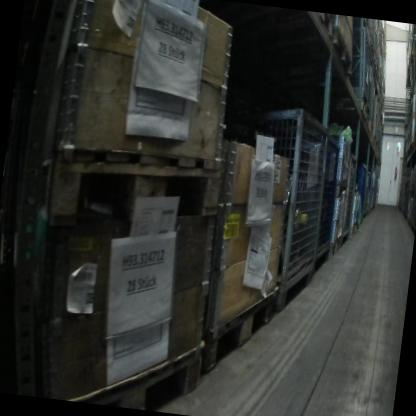pallet: (24, 132, 229, 225), (66, 321, 209, 415), (200, 273, 280, 387), (278, 9, 340, 46), (314, 88, 368, 130), (325, 23, 358, 85), (323, 232, 344, 269), (359, 24, 377, 51), (360, 117, 374, 138), (406, 140, 416, 163), (369, 134, 378, 145), (373, 51, 379, 67), (412, 120, 416, 144), (375, 66, 381, 81)
stillage: (232, 97, 329, 311), (305, 120, 344, 280), (337, 146, 360, 259), (351, 159, 367, 234), (367, 95, 384, 147), (401, 169, 416, 218), (360, 163, 372, 218), (406, 167, 416, 233), (365, 172, 377, 215), (363, 86, 378, 117), (395, 177, 407, 212)
